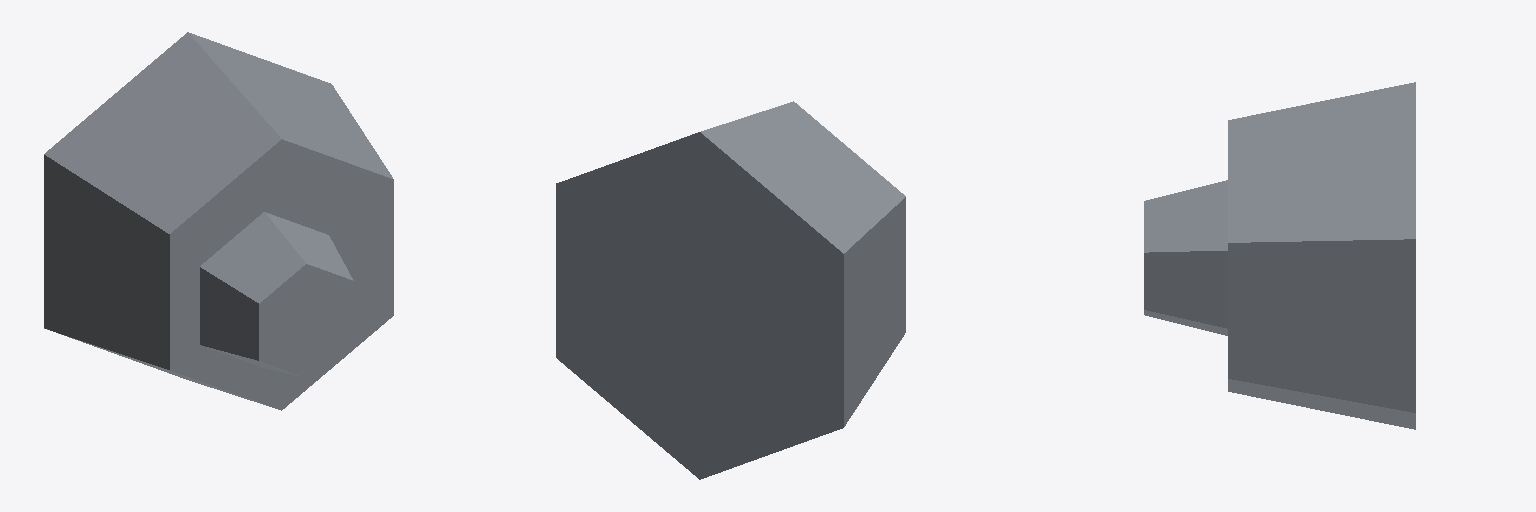
Rendered from rock3.obj.
3 renders of one model, left to right at view 1: azimuth 30°, elevation 25°; view 2: azimuth 150°, elevation 25°; view 3: azimuth 270°, elevation 25°, orthographic.
Parts seen in each view (by area): view 1: Mesh1_Rock_2_Model; view 2: Mesh1_Rock_2_Model; view 3: Mesh1_Rock_2_Model.
Boxes of the visible parts, box(x1,y1,x2,y2) form: Mesh1_Rock_2_Model: box(44, 32, 393, 410); Mesh1_Rock_2_Model: box(556, 101, 905, 479); Mesh1_Rock_2_Model: box(1144, 82, 1415, 429).
Bounding box in the file's own units: 4.92 × 5.69 × 4.04.